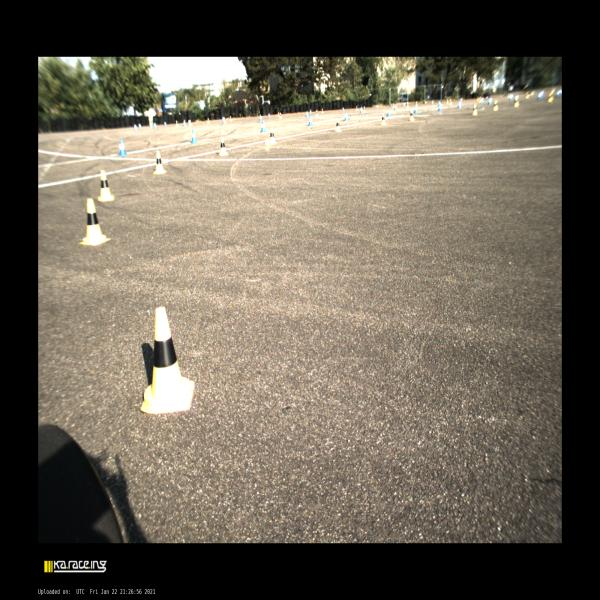blue_cone: (118, 139, 127, 156), (190, 128, 198, 142), (260, 121, 266, 132), (386, 107, 392, 117), (308, 115, 313, 125), (344, 111, 348, 120), (414, 105, 418, 114), (438, 103, 442, 111), (458, 101, 462, 109), (183, 120, 187, 126), (222, 118, 226, 124), (360, 106, 363, 113), (488, 98, 491, 105), (394, 104, 397, 110), (259, 115, 262, 121), (509, 95, 512, 100), (139, 124, 142, 129), (154, 123, 157, 128), (164, 122, 167, 127), (481, 98, 483, 104), (538, 94, 540, 100), (306, 111, 308, 117), (309, 110, 312, 114), (556, 91, 558, 96), (135, 125, 137, 130), (268, 113, 270, 118), (432, 100, 434, 104), (376, 105, 378, 109), (403, 102, 405, 106), (342, 108, 344, 111), (188, 120, 189, 124)
yellow_cone: (141, 307, 194, 414), (79, 198, 110, 246), (98, 170, 114, 201), (153, 150, 167, 174), (219, 138, 228, 156), (269, 128, 276, 144), (334, 120, 342, 132), (381, 113, 387, 125), (409, 109, 415, 121), (472, 105, 477, 115), (493, 101, 498, 111), (514, 98, 518, 107), (548, 95, 551, 102), (316, 110, 319, 117), (406, 102, 409, 109), (321, 108, 324, 114), (363, 106, 366, 112), (175, 120, 178, 126), (207, 118, 210, 124), (279, 112, 282, 118), (229, 116, 232, 121), (449, 100, 451, 106), (526, 93, 528, 98), (356, 105, 358, 110), (278, 112, 280, 117), (446, 100, 449, 103), (393, 103, 394, 108)
